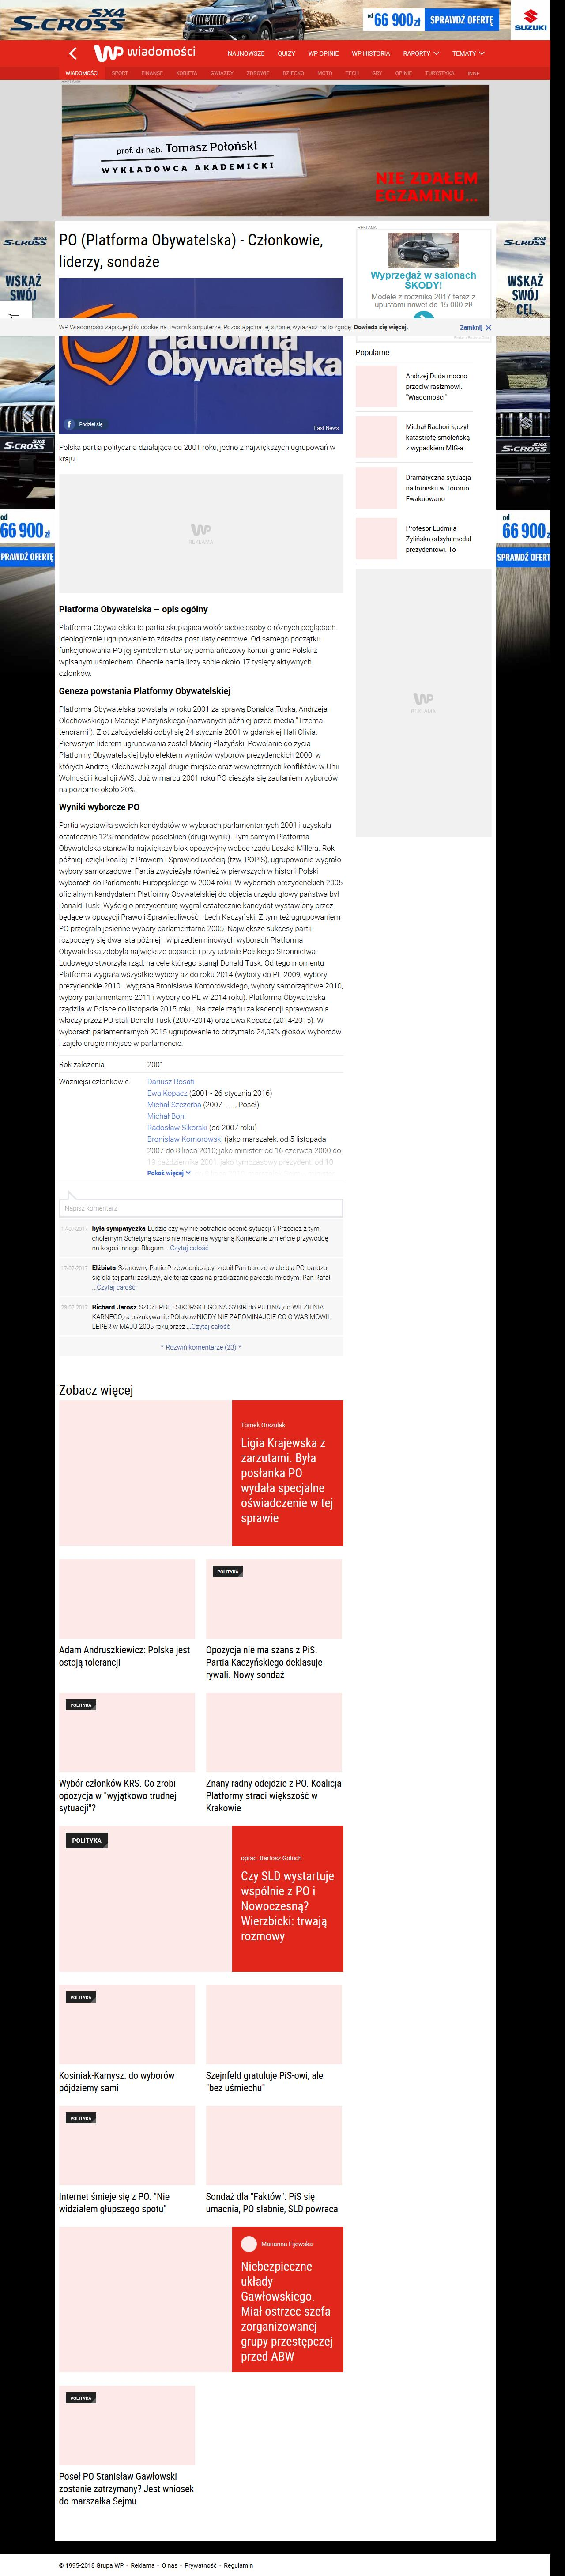title: (57, 232, 325, 271)
